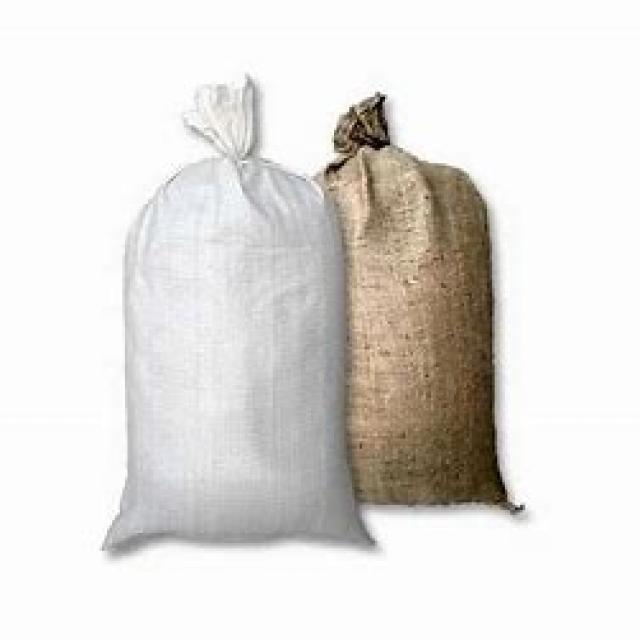gunny_bag: (88, 69, 378, 575), (320, 91, 529, 512)
